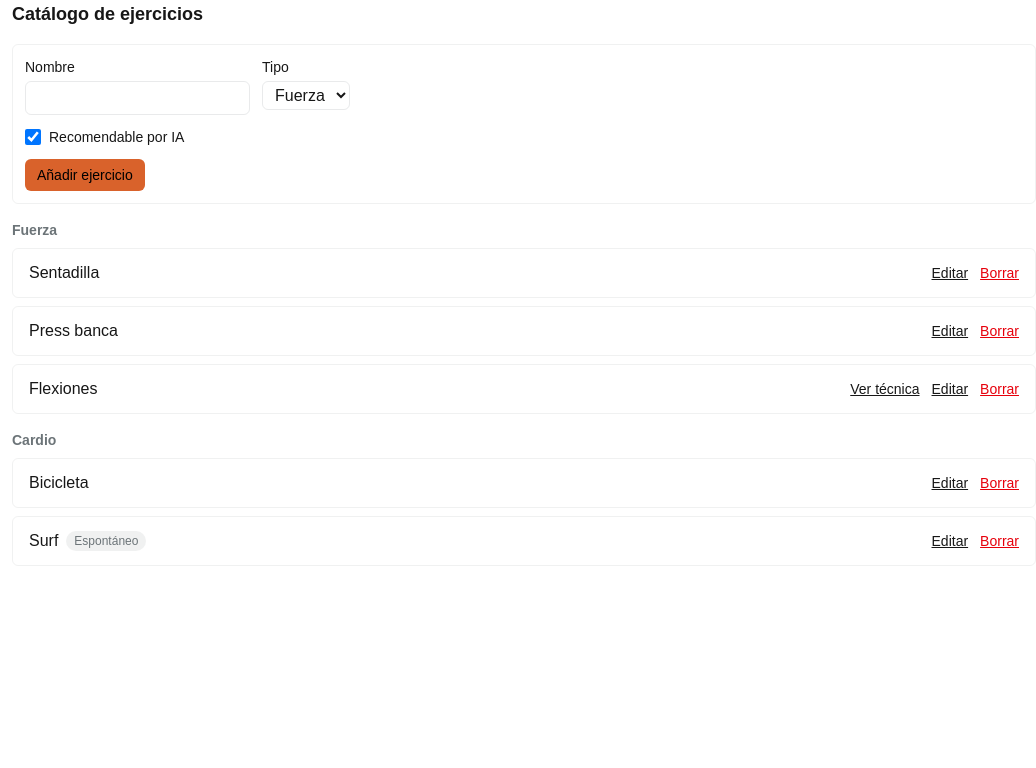
Test: ExercisesSection › muestra el error de la Server Action en el formulario de edición
The image size is (1036, 768).
What coordinates should you click on to do the following:
click the button "Editar" in the row of "Sentadilla"
I would click on:
 (950, 273)
Its box is [932,263,968,283].
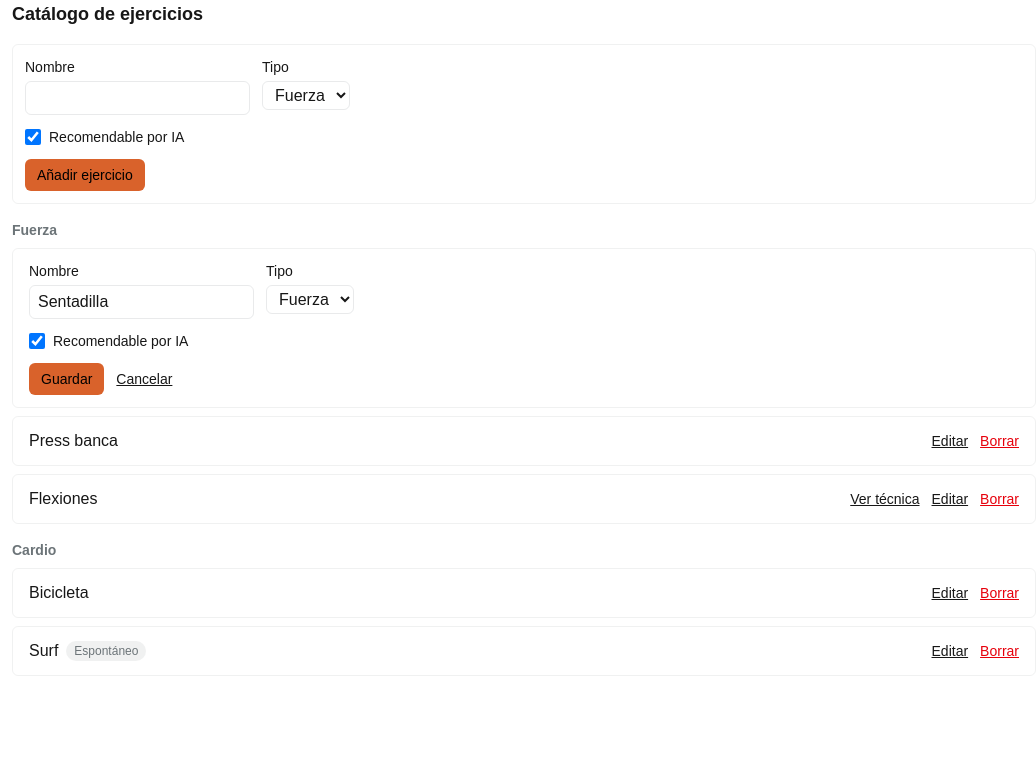
What coordinates should you click on to do the following:
click the button "Guardar"
I would click on:
 (67, 379)
Its box is [29,363,104,395].
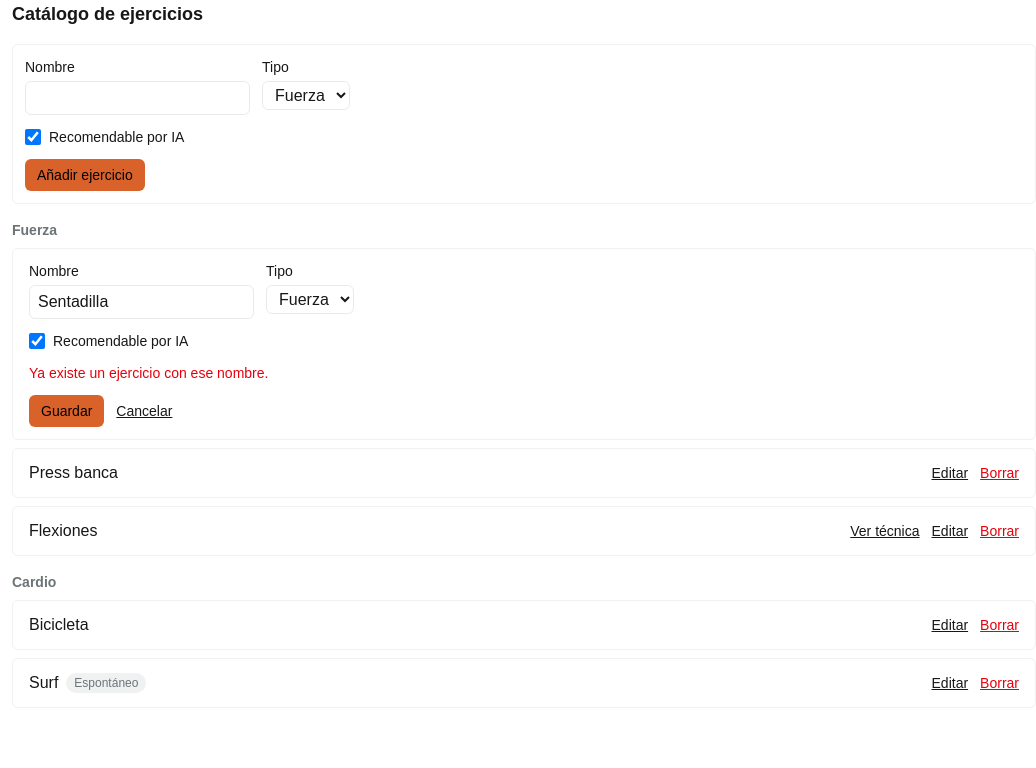
Expected: the message reads "Ya existe un ejercicio con ese nombre.", [29,365,268,381]
